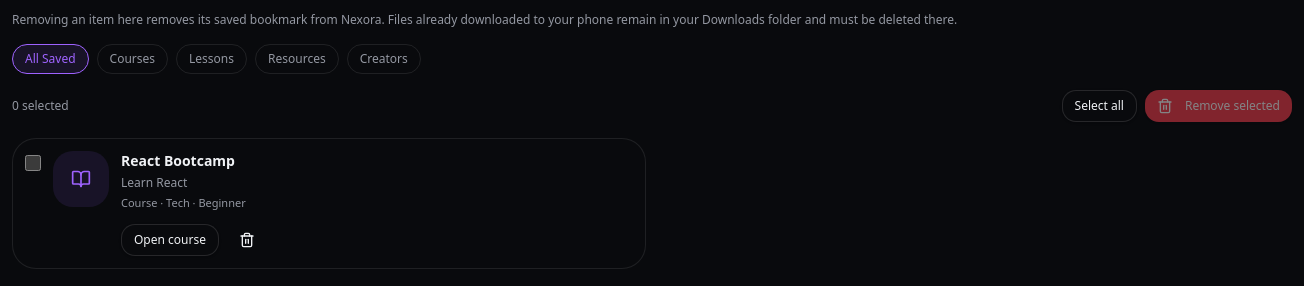
Test: SavedLearningPanel › removes a saved item without granting course access
Expected: the text "React Bootcamp" is shown, left=121, top=151, right=235, bottom=170
Click the button named "Remove saved course" at point(247, 240), box left=227, top=224, right=267, bottom=256
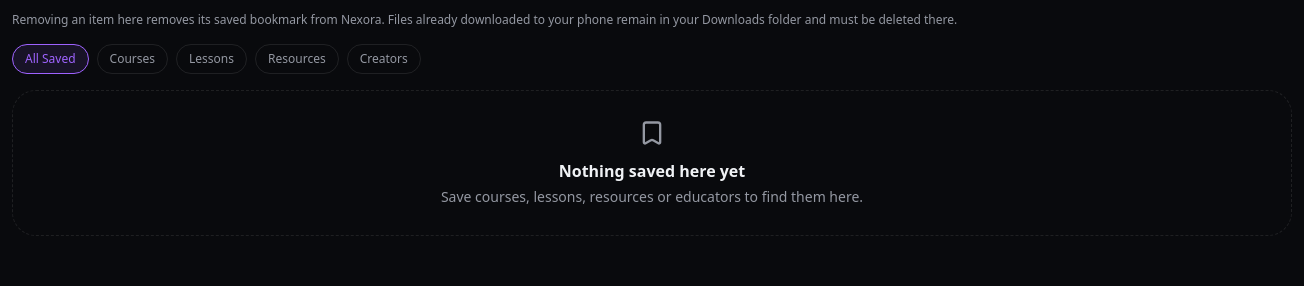
Expected: the text "React Bootcamp" is gone
